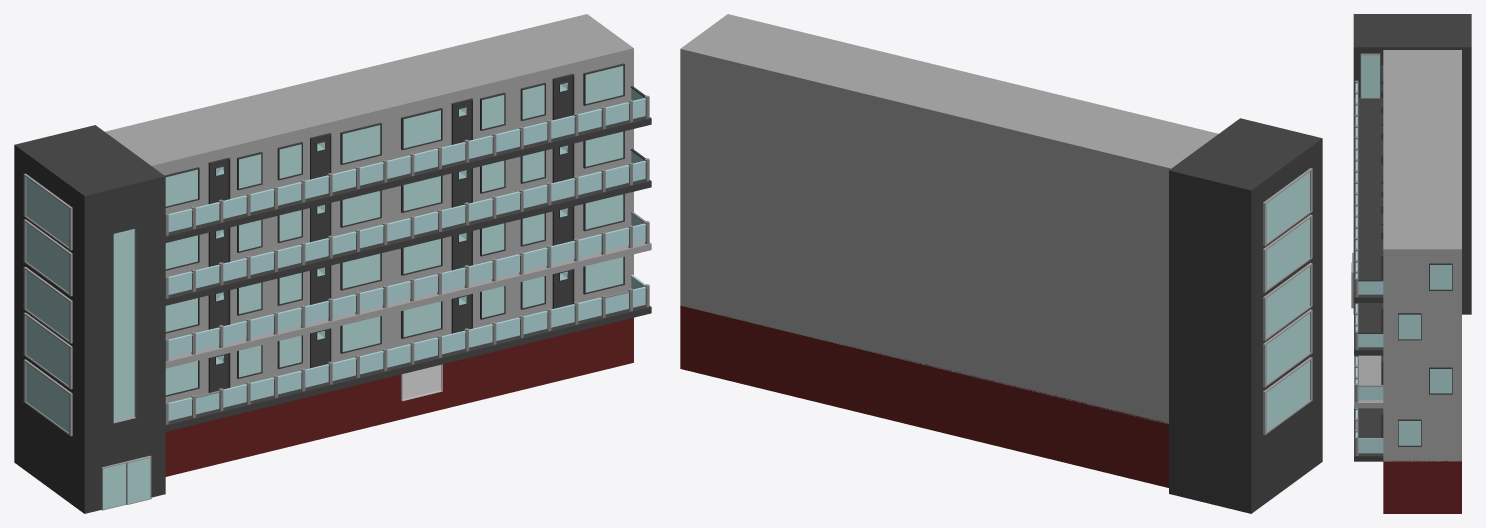
Rendered from appartments.fbx.
3 views of the same model, side by side, from view 1: azimuth 30°, elevation 25°; view 2: azimuth 150°, elevation 25°; view 3: azimuth 270°, elevation 25° (orthographic). The views are drawn at different scales.
Parts seen in each view (by area): view 1: Cube.228, Cube.012, Cube.227; view 2: Cube.228; view 3: Cube.228.
Part boxes in pixels (x1,y1,x2,y2): Cube.228: (14,14,651,513); Cube.012: (401,364,442,401); Cube.227: (520,82,545,120); Cube.228: (680,14,1322,513); Cube.228: (1351,14,1471,513).
Bounding box in the file's own units: 5640 × 3000 × 1227.
